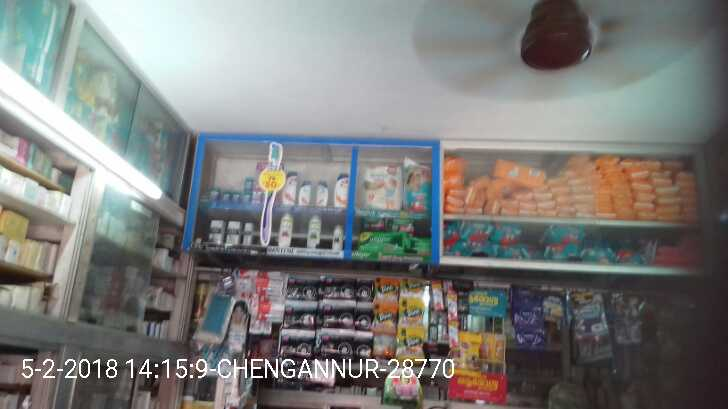vicks: (209, 179, 262, 206)
